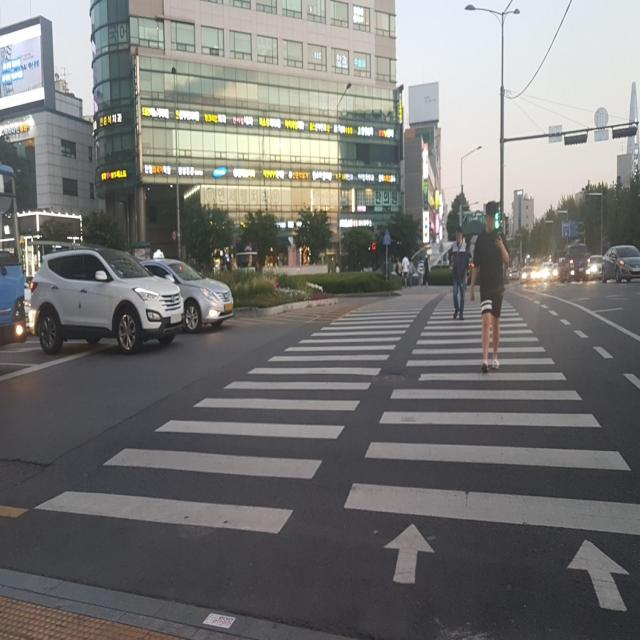횡단보도: (29, 282, 640, 621)
